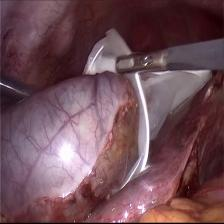Grasper: (114, 50, 166, 77)
Specimen Bag: (80, 27, 215, 194)
